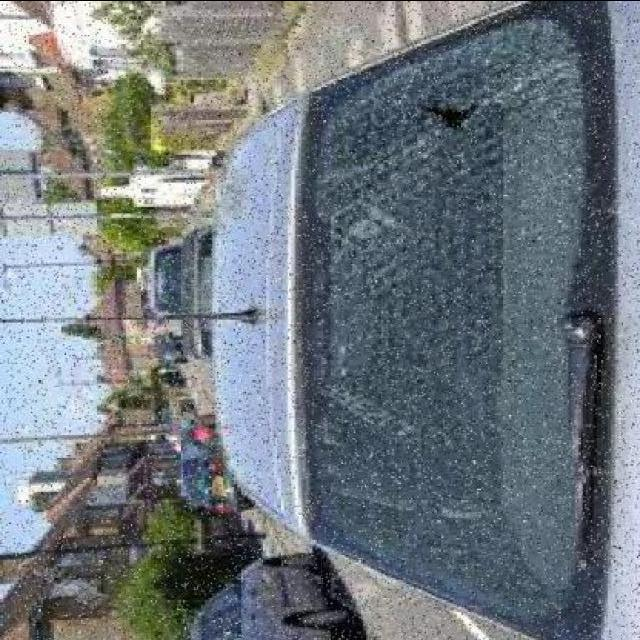Rear-windscreen-Damage: (309, 17, 636, 601)
